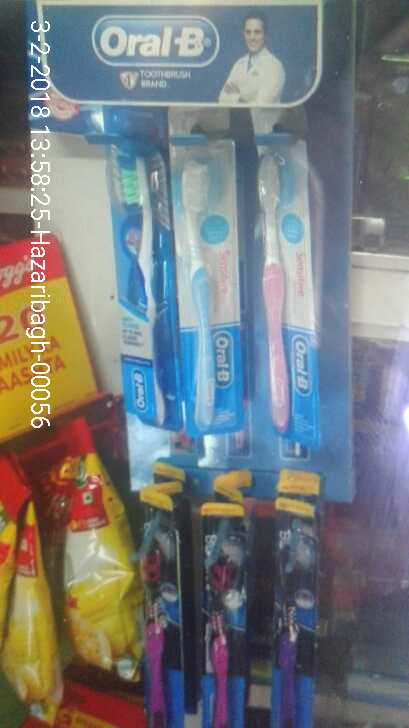oralb: (244, 143, 307, 438), (115, 150, 174, 425), (181, 150, 235, 430), (266, 509, 326, 728), (189, 513, 248, 728), (131, 513, 178, 728)
